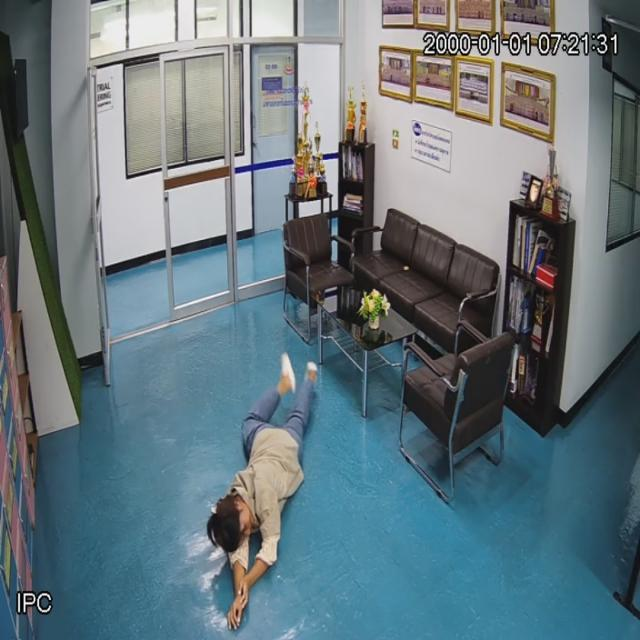fall: (211, 370, 315, 628)
